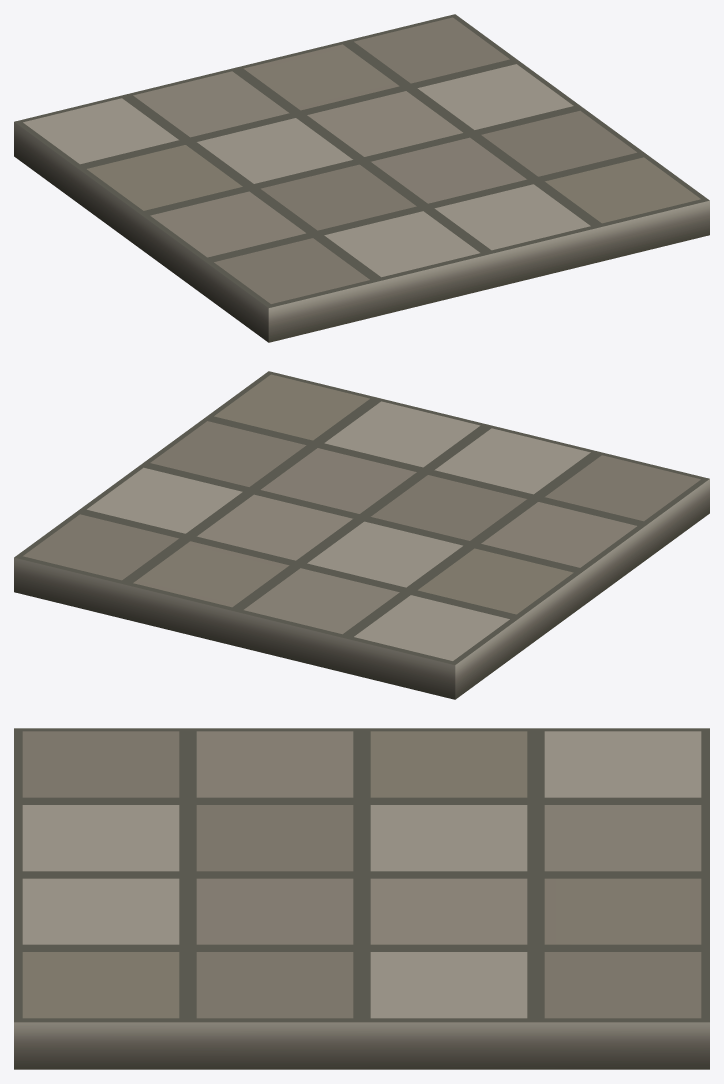
The model's file is Pavement_1N_4x4.fbx.
3 renders of one model, top to bottom at view 1: azimuth 30°, elevation 25°; view 2: azimuth 150°, elevation 25°; view 3: azimuth 270°, elevation 25°, orthographic. The views are drawn at different scales.
Visible parts, largest first — view 1: Pavement_1N_4x4; view 2: Pavement_1N_4x4; view 3: Pavement_1N_4x4.
Part boxes in pixels (x1=…): Pavement_1N_4x4: x1=14, y1=14, x2=709, y2=342; Pavement_1N_4x4: x1=14, y1=371, x2=709, y2=699; Pavement_1N_4x4: x1=14, y1=728, x2=709, y2=1069.
Bounding box in the file's own units: 122 × 9.24 × 122.
